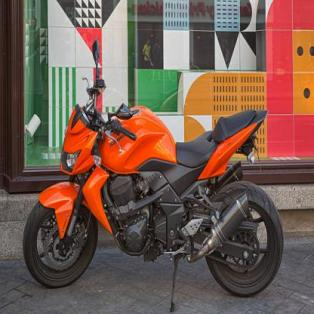Motocicleta: (20, 46, 283, 304)
